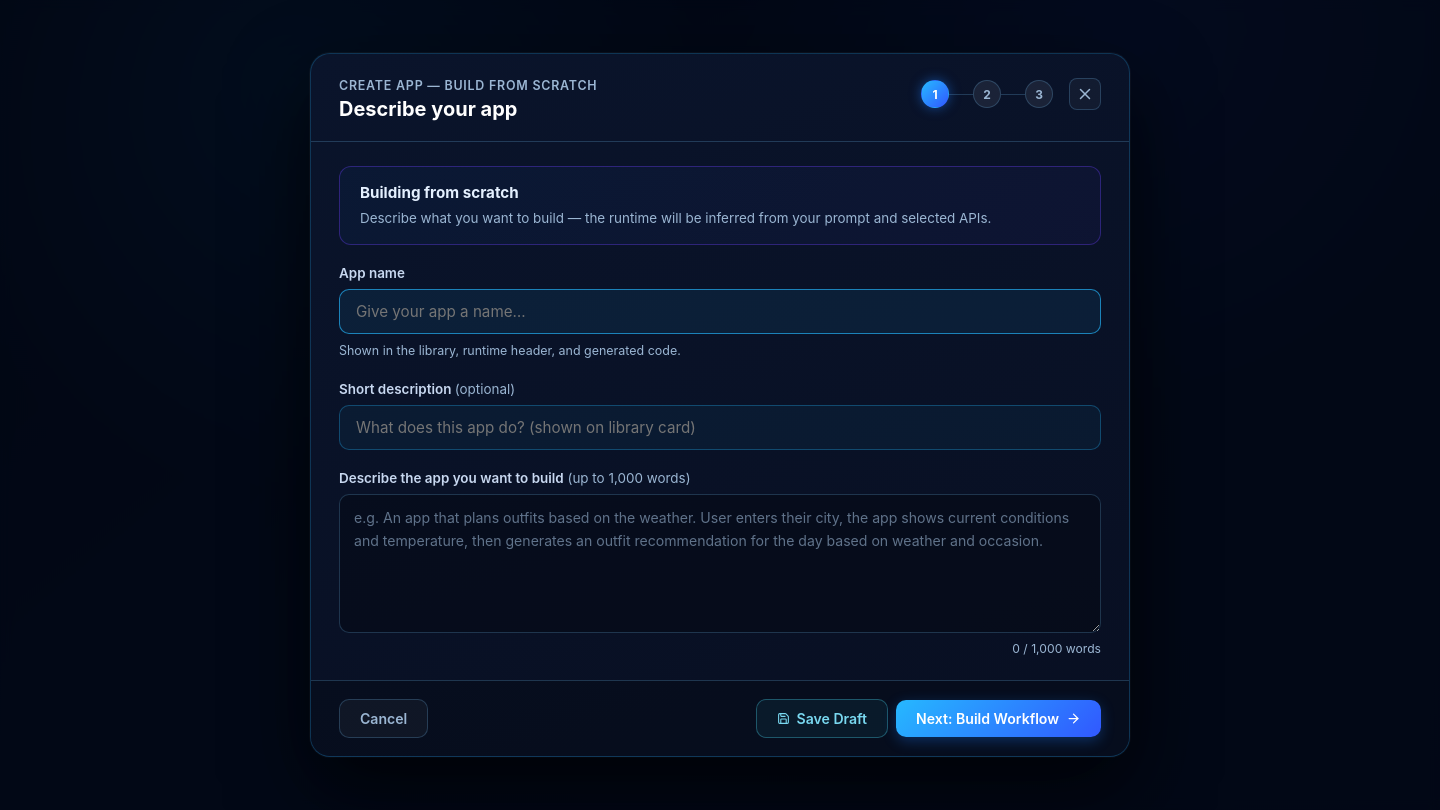
it: CreateDAppWizard generation errors › myapps-12: failed draft save shows draft-specific wording and no Retry Save button
Click the button "Save Draft" at x=822, y=718, box x1=756 y1=699 x2=888 y2=738
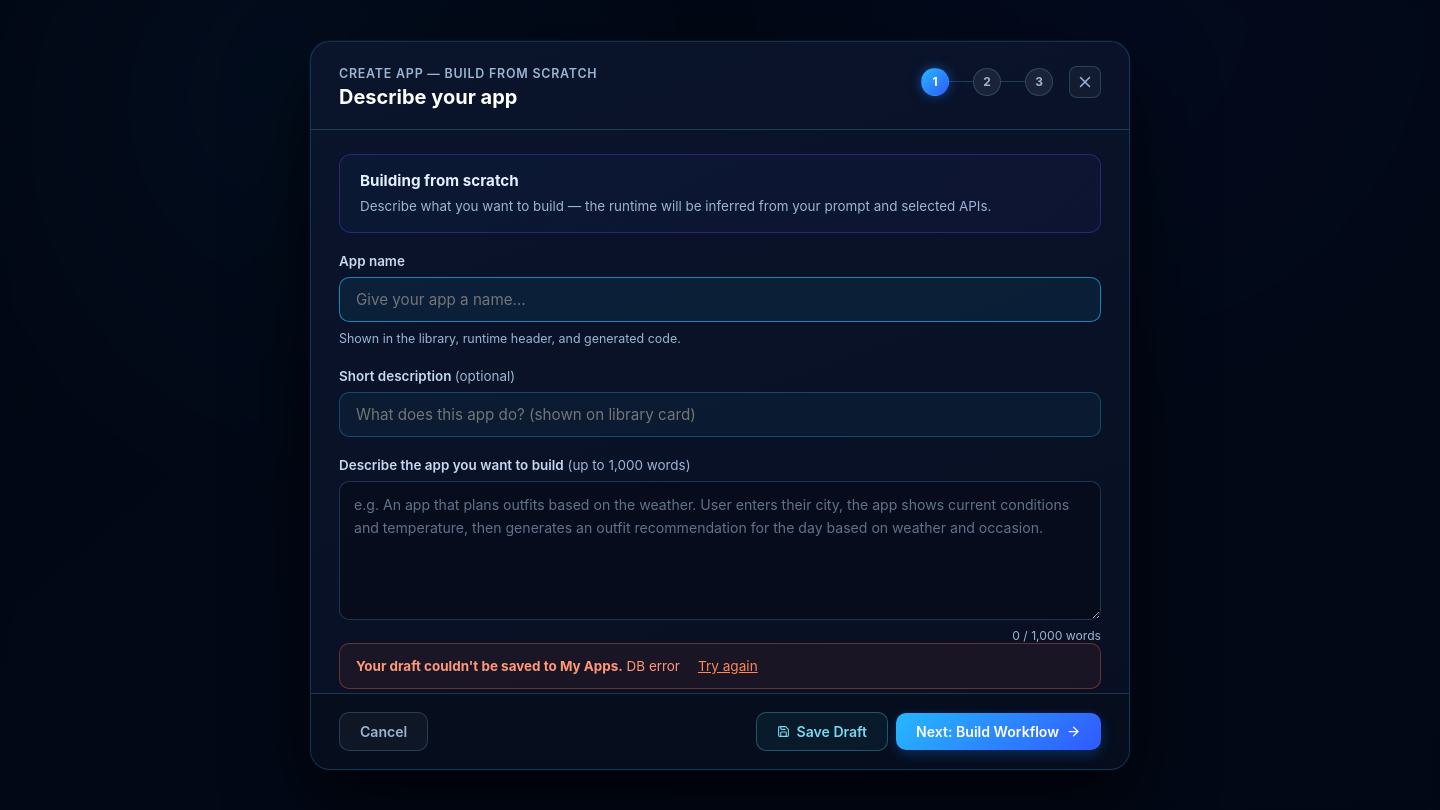
Expected: the text "Your draft couldn't be saved to My Apps." is shown, x1=356 y1=658 x2=623 y2=674
Expected: the button "Try again" is shown, x1=692 y1=657 x2=764 y2=675
